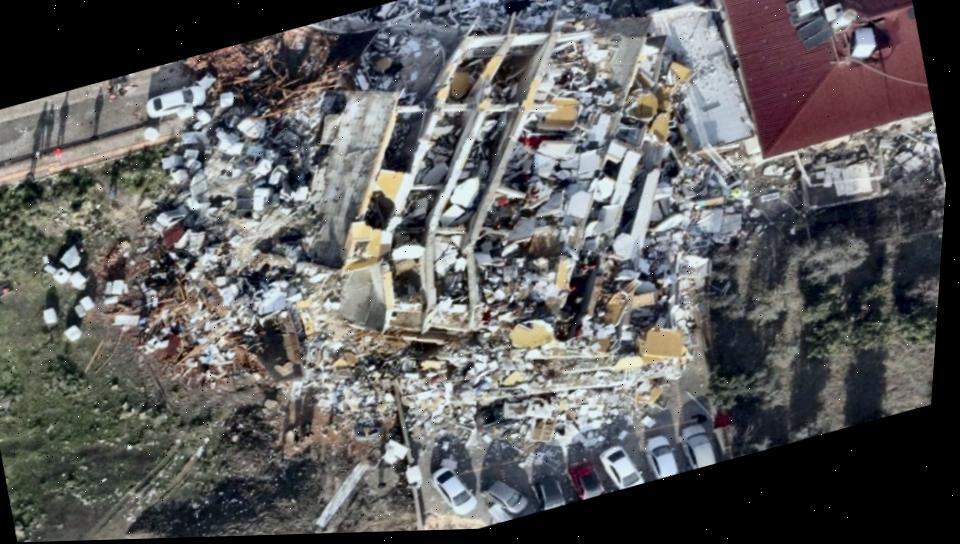kapali: (80, 0, 590, 141)
